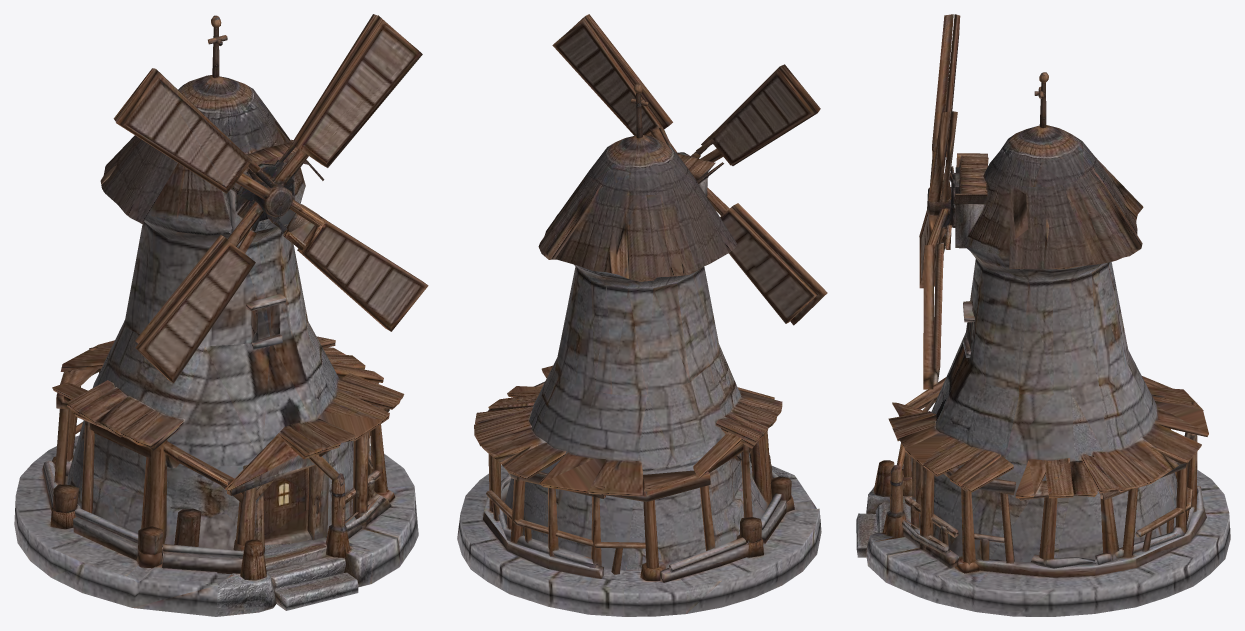
The model's file is windmill.glb.
3 renders of one model, left to right at view 1: azimuth 30°, elevation 25°; view 2: azimuth 150°, elevation 25°; view 3: azimuth 270°, elevation 25°, orthographic. The views are drawn at different scales.
Bounding box in the file's own units: 0.666 × 0.9536 × 0.6768.
Materials: 1 (1 with a texture image).
